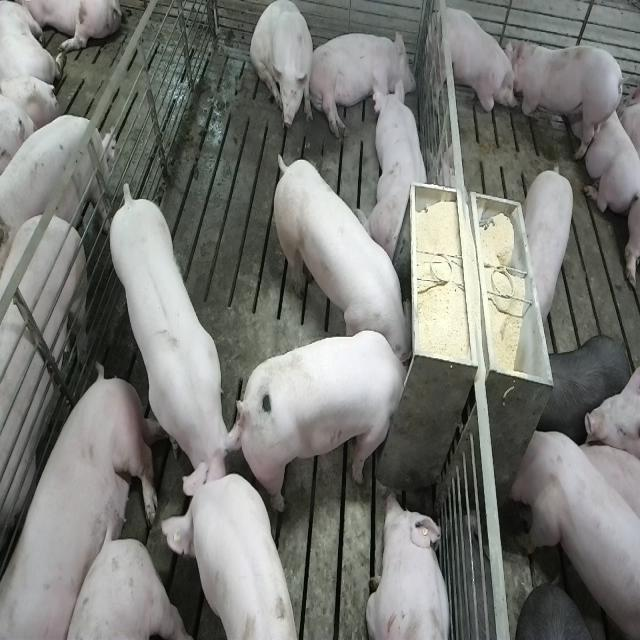Feeding: (243, 330, 418, 514), (269, 146, 411, 362)
Lateral_lying: (4, 366, 158, 640), (308, 28, 417, 140)
Sitting: (250, 3, 315, 137)
Standing: (108, 184, 246, 512), (0, 204, 91, 590), (508, 421, 638, 636), (163, 468, 303, 640), (0, 108, 113, 256), (428, 5, 516, 130), (540, 332, 630, 445), (524, 161, 578, 327)
Sternal_lying: (513, 30, 625, 155), (366, 489, 454, 640), (361, 78, 432, 264), (578, 84, 639, 212)
